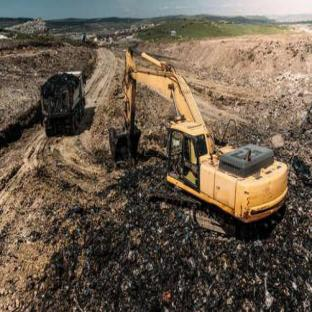ExcavationMachinery: (106, 43, 294, 257)
Vehicle: (40, 59, 91, 140)
